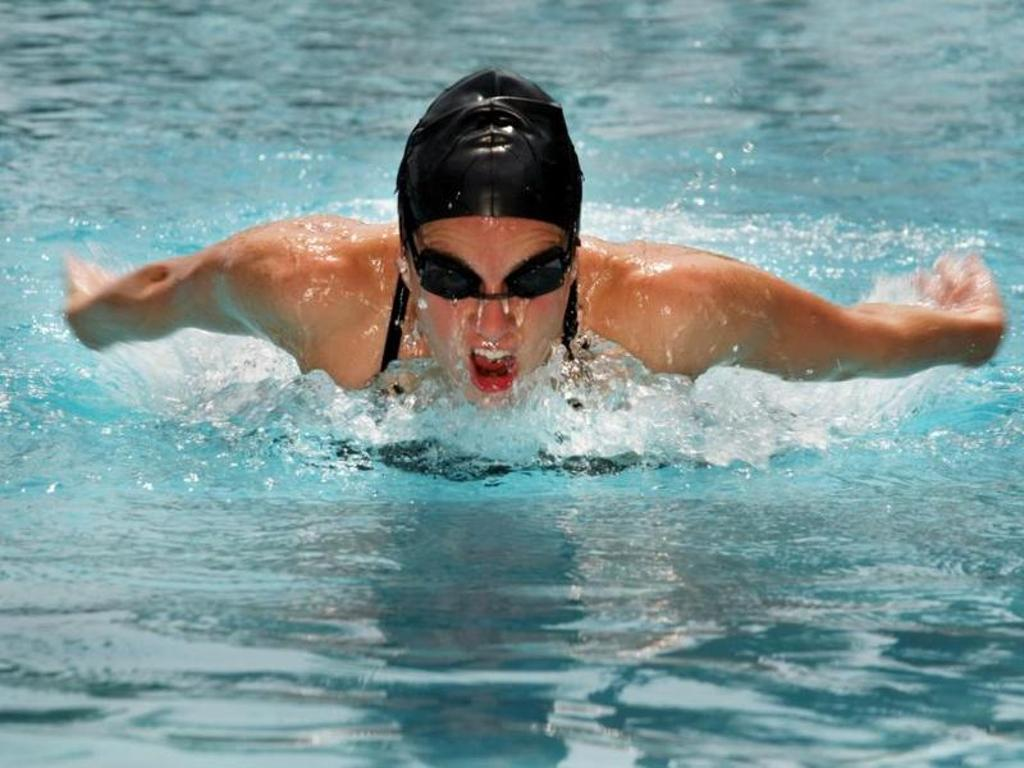face: (408, 206, 568, 416)
